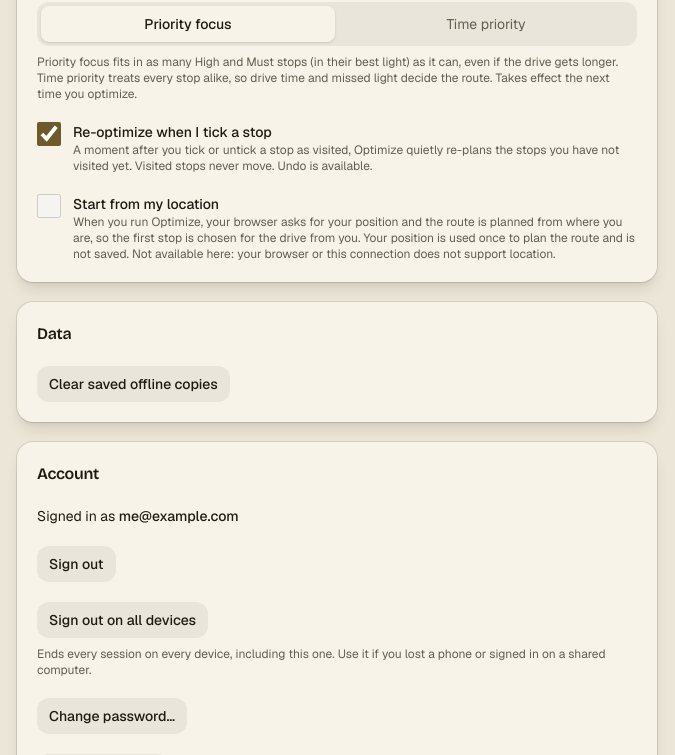
Test: SettingsView › clears saved offline copies and confirms
(page scrolled)
Click the button "Clear saved offline copies" at (133, 384), box 37,366 -> 230,402
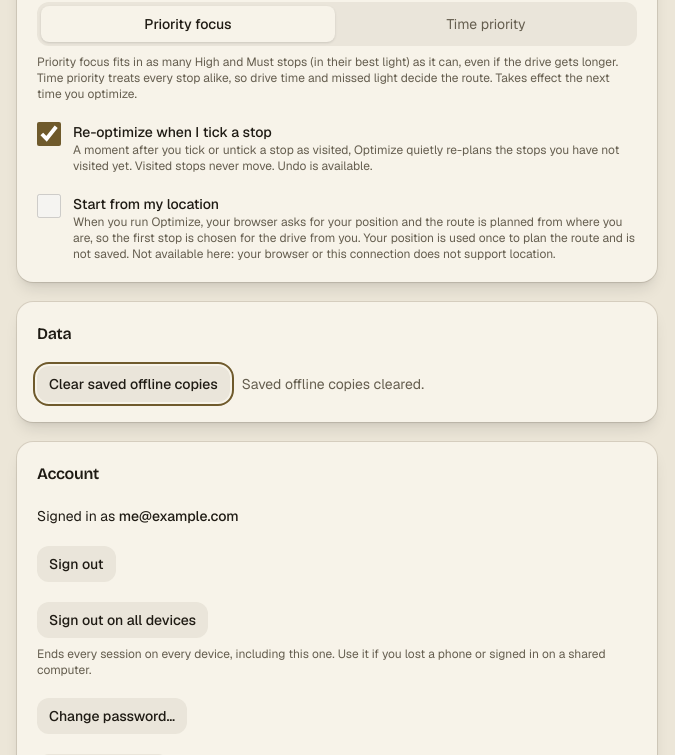
Result: the message shows "cleared" at 242,375 -> 424,393
